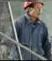hard-hat: (23, 0, 44, 10)
